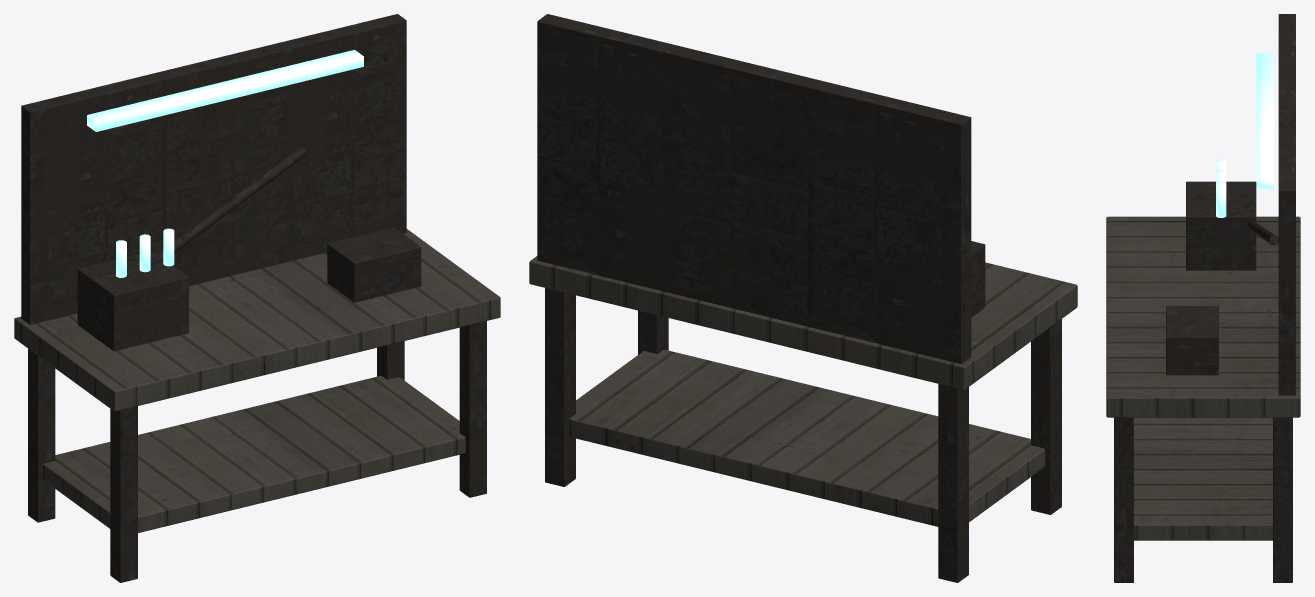
The model's file is upgrade_bench_aaa.glb.
3 views of the same model, side by side, from view 1: azimuth 30°, elevation 25°; view 2: azimuth 150°, elevation 25°; view 3: azimuth 270°, elevation 25° (orthographic). The views are drawn at different scales.
Visible parts, largest first — view 1: BenchSteel, BenchTimber, BenchGlow; view 2: BenchSteel, BenchTimber; view 3: BenchTimber, BenchSteel, BenchGlow.
Boxes of the visible parts, x1,y1,x2,y2 form: BenchSteel: (21,14,486,582); BenchTimber: (14,229,500,532); BenchGlow: (87,49,363,277); BenchSteel: (537,14,1061,582); BenchTimber: (529,256,1077,526); BenchTimber: (1106,216,1300,540); BenchSteel: (1114,14,1295,582); BenchGlow: (1216,53,1273,217).
Bounding box in the file's own units: 1.95 × 1.98 × 0.88.
3 materials, 2 textured.
